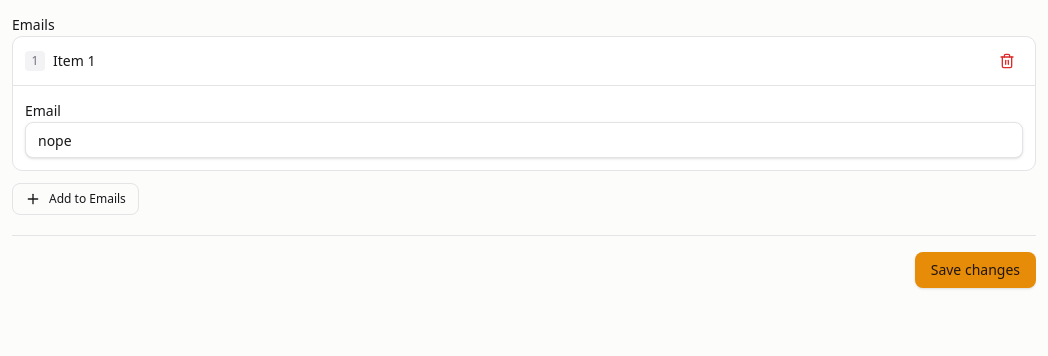
Scenario: simple repeaters › reports the child rules of each item
Click the button "Save changes" at (975, 270), box [915, 252, 1036, 288]
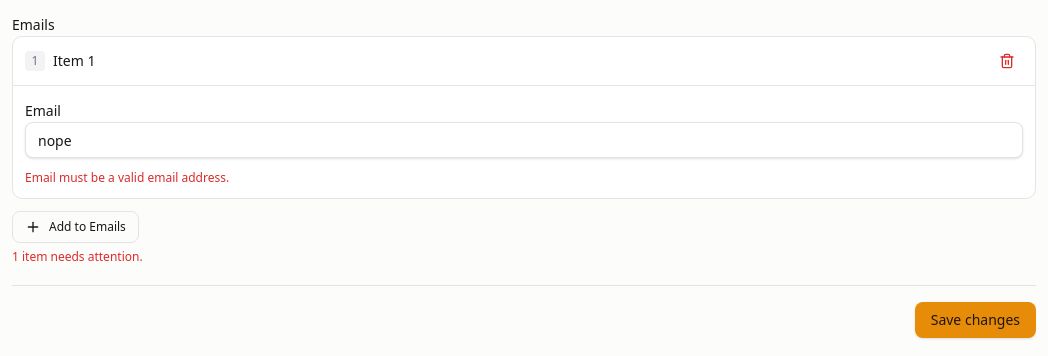
Now the list item "Email must be a valid email address." is shown, box [25, 169, 229, 186]
